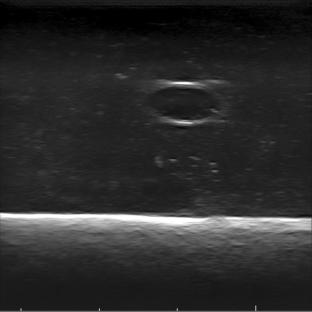vessel: (145, 80, 224, 125)
